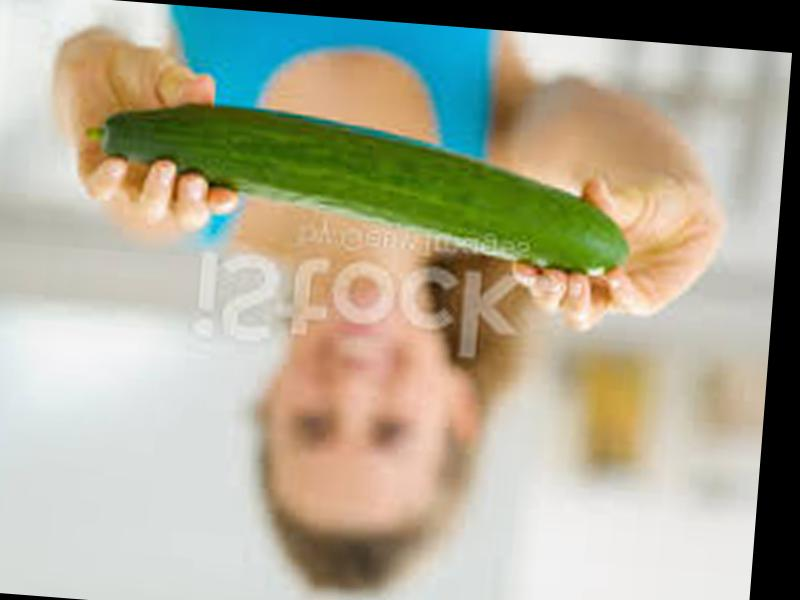Cucumber: (80, 95, 639, 271)
